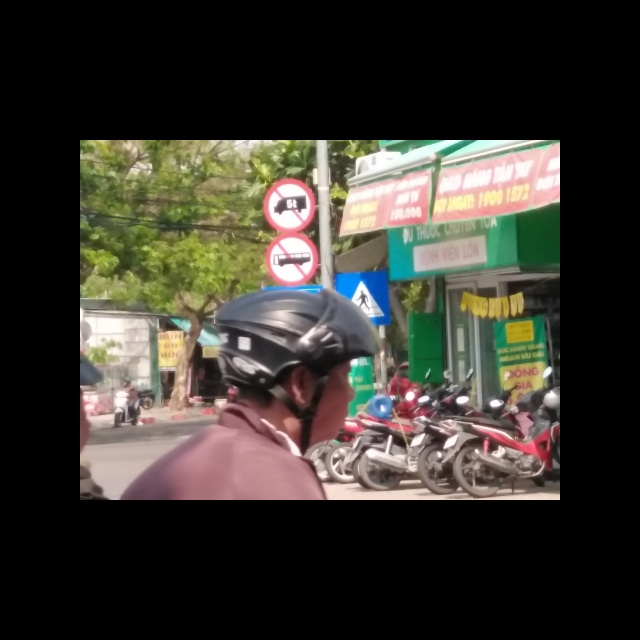Cấm xe tải: (263, 180, 315, 232)
Cấm xe xe khách: (264, 231, 319, 285)
Đường dành cho người đi bộ: (333, 271, 391, 328)
